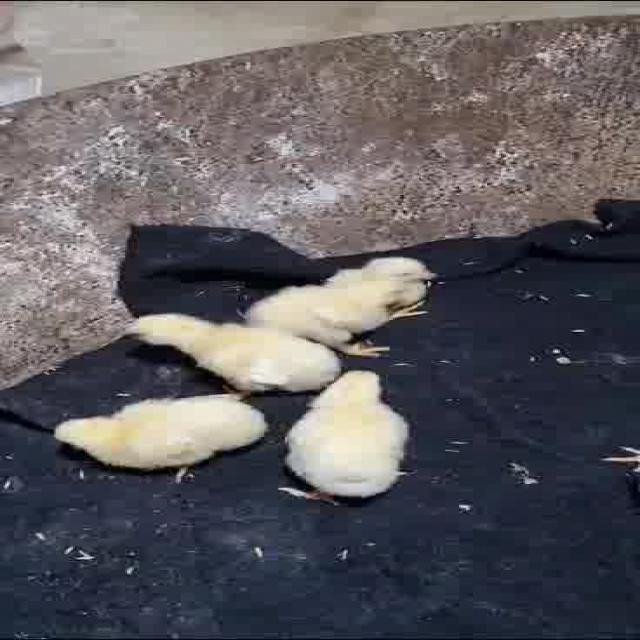poussin: (124, 304, 340, 389), (286, 366, 421, 498), (40, 396, 263, 474), (245, 275, 409, 360), (334, 258, 443, 325)
